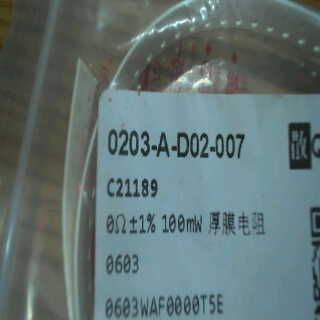0R: (103, 208, 205, 285)
